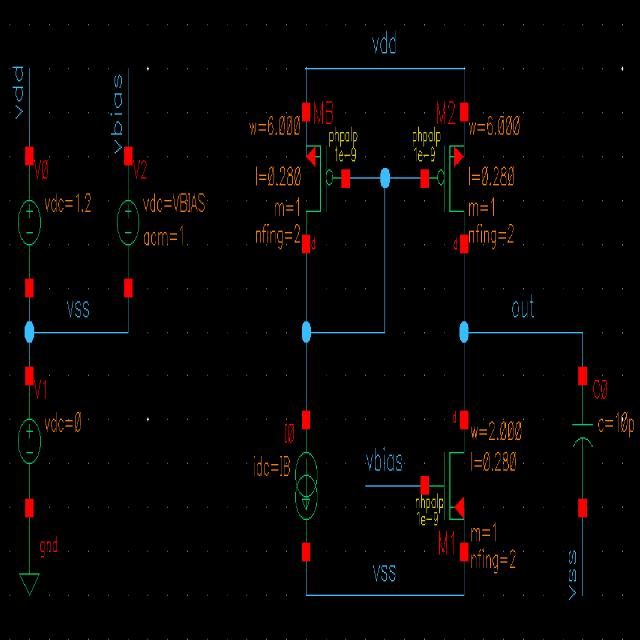cap: (568, 366, 595, 521)
idc: (290, 407, 322, 562)
nmos: (420, 416, 468, 564)
pmos: (419, 102, 470, 262), (301, 104, 352, 258)
vdc: (112, 144, 142, 306), (16, 144, 45, 300), (16, 364, 43, 521)
